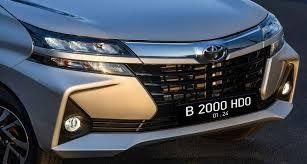plate: (184, 94, 255, 128)
